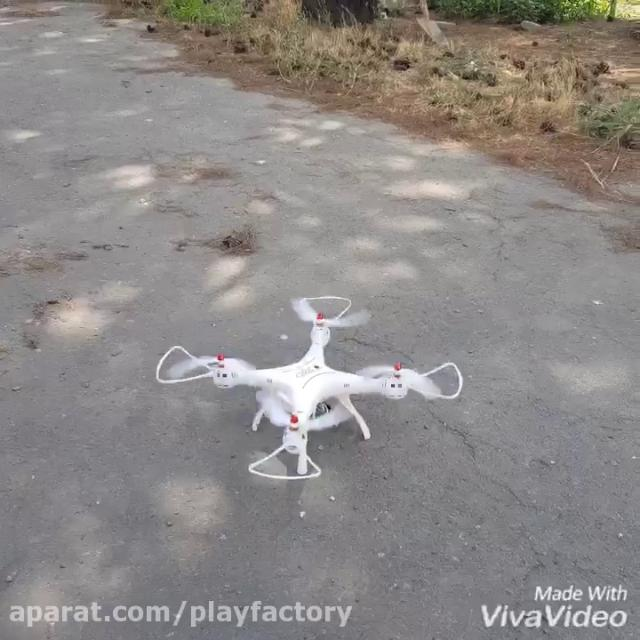drone: (148, 292, 466, 484)
